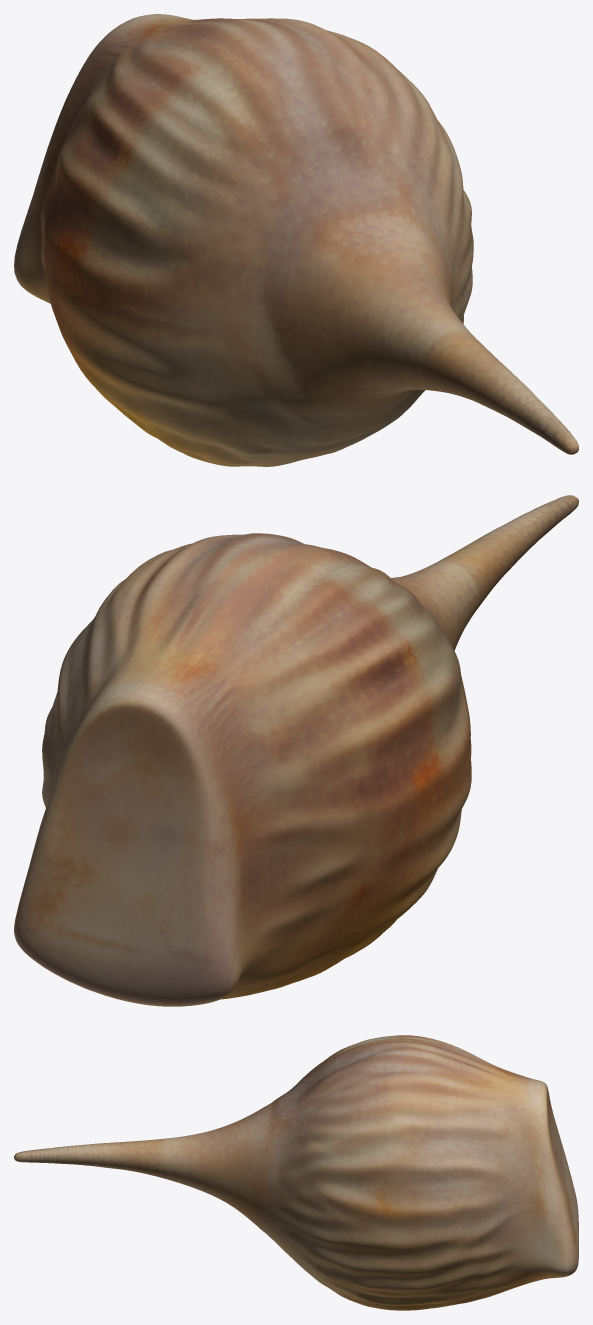
3 views of the same model, one above another, from view 1: azimuth 30°, elevation 25°; view 2: azimuth 150°, elevation 25°; view 3: azimuth 270°, elevation 25° (orthographic). The views are drawn at different scales.
Parts seen in each view (by area): view 1: world; view 2: world; view 3: world.
Boxes of the visible parts, x1,y1,x2,y2 form: world: (14, 14, 578, 466); world: (14, 495, 578, 1006); world: (14, 1035, 578, 1310).
Bounding box in the file's own units: 0.0252 × 0.027 × 0.055.
1 material, 1 textured.
